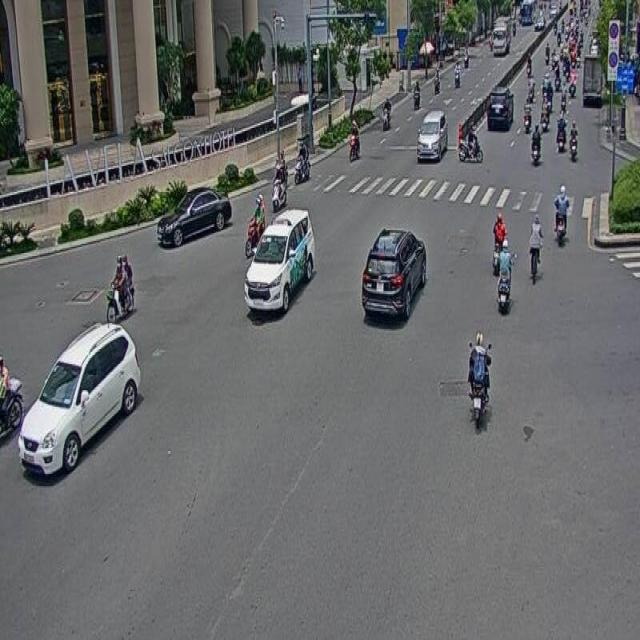bicycle: (528, 214, 542, 286)
car: (19, 316, 145, 490), (243, 205, 317, 318), (360, 225, 423, 328), (159, 189, 233, 250)
motorcycle: (466, 329, 492, 433), (496, 238, 516, 315), (108, 256, 134, 315), (244, 192, 266, 258), (552, 181, 570, 247), (492, 212, 506, 276), (271, 160, 287, 210)
